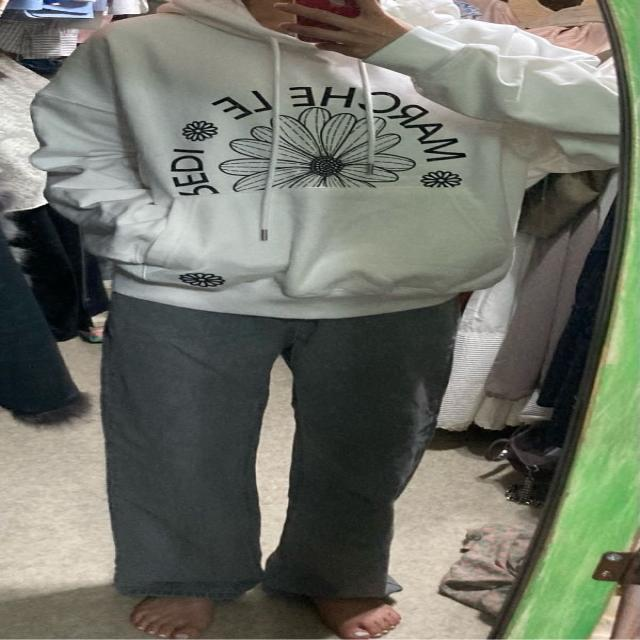denimpants: (97, 291, 460, 601)
mtm: (25, 0, 616, 318)
